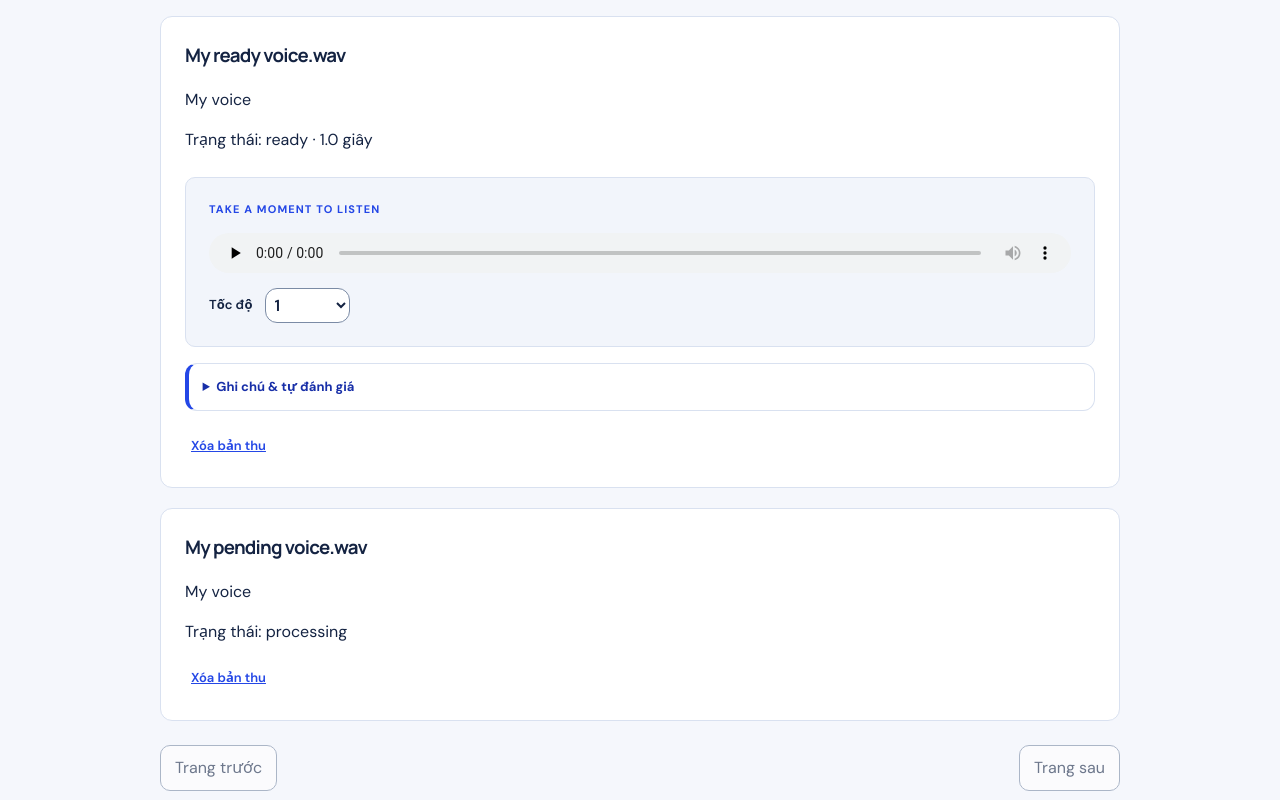
Test: private recording page › requires explicit deletion confirmation and accepts the queued empty acknowledgment
Later steps or results of the test are not shown.
(page scrolled)
What coordinates should you click on to do the following:
click the button "Xóa bản thu" below "Ghi chú & tự đánh giá"
I would click on:
 (228, 445)
Its box is top-left (185, 427), bottom-right (272, 463).
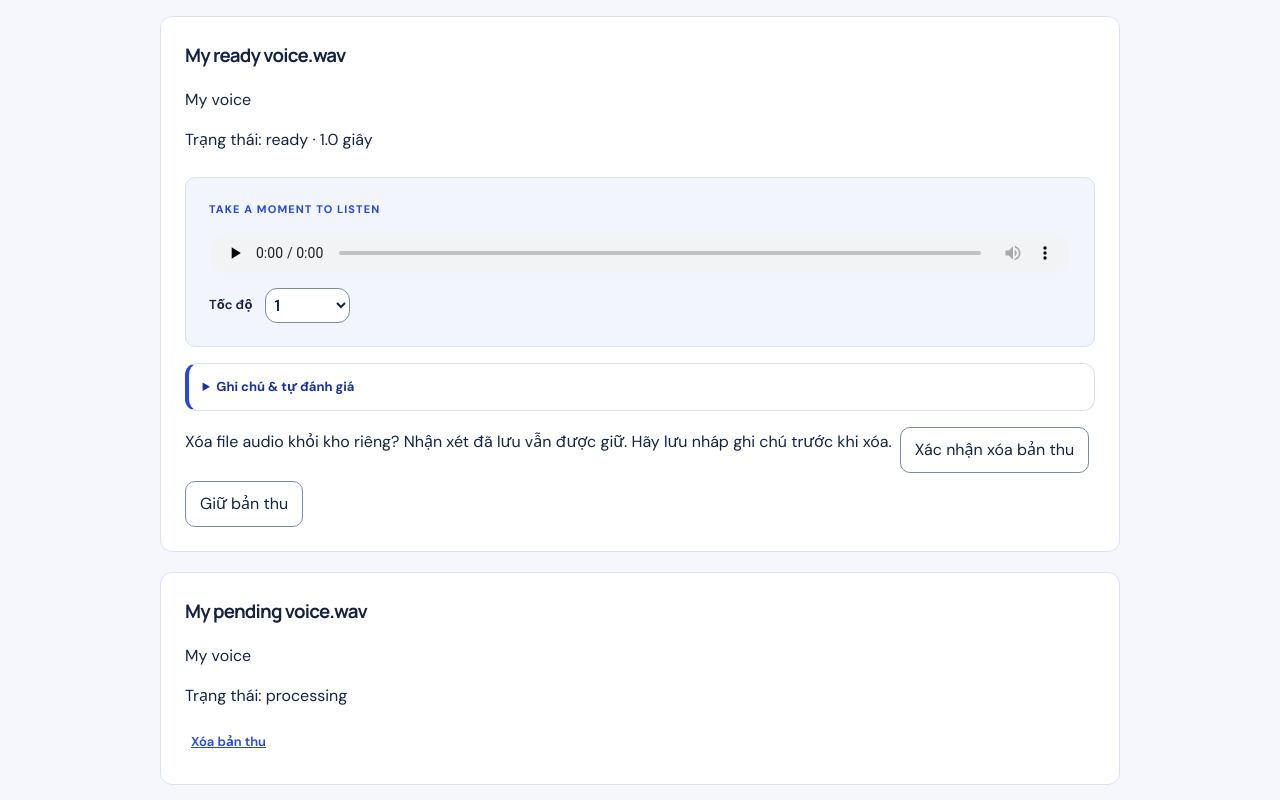
Expected: the button "Xác nhận xóa bản thu" is shown, top-left (900, 427), bottom-right (1089, 473)
